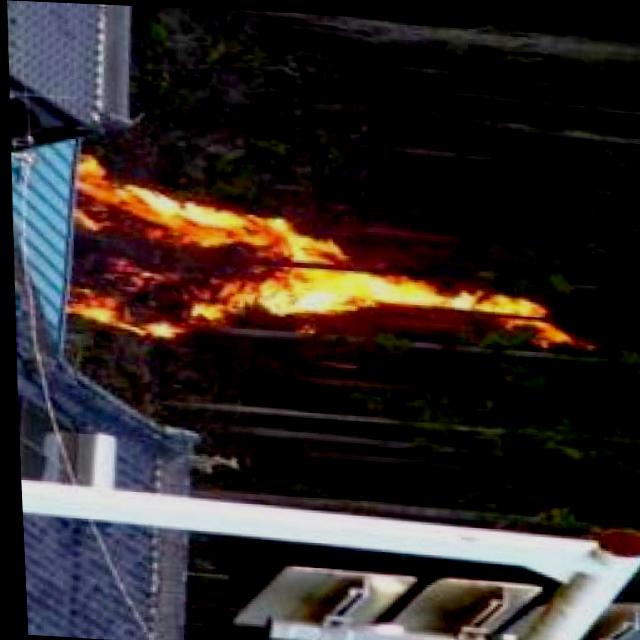Fire: (56, 164, 569, 363)
